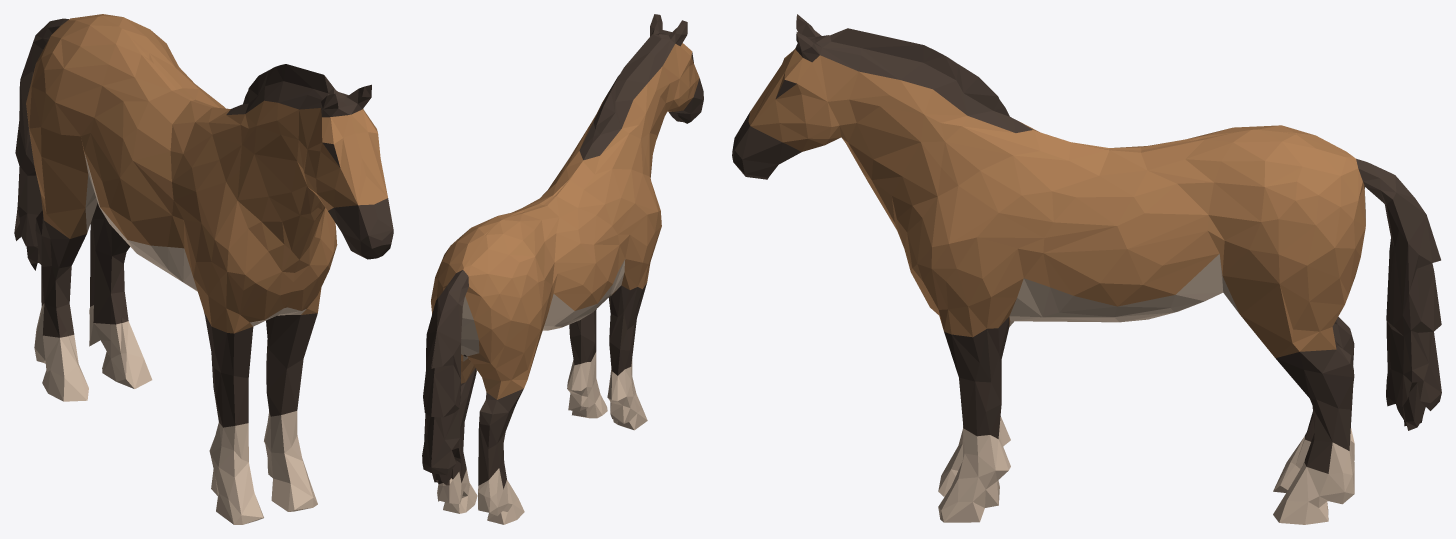
File: Horse.fbx
3 renders of one model, left to right at view 1: azimuth 30°, elevation 25°; view 2: azimuth 150°, elevation 25°; view 3: azimuth 270°, elevation 25°, orthographic. The views are drawn at different scales.
Visible parts, largest first — view 1: Лошадь; view 2: Лошадь; view 3: Лошадь.
Boxes of the visible parts, left/top/right/bottom form: Лошадь: left=14, top=14, right=393, bottom=524; Лошадь: left=422, top=14, right=703, bottom=524; Лошадь: left=732, top=14, right=1441, bottom=524.
Bounding box in the file's own units: 0.4171 × 1.42 × 1.91.
